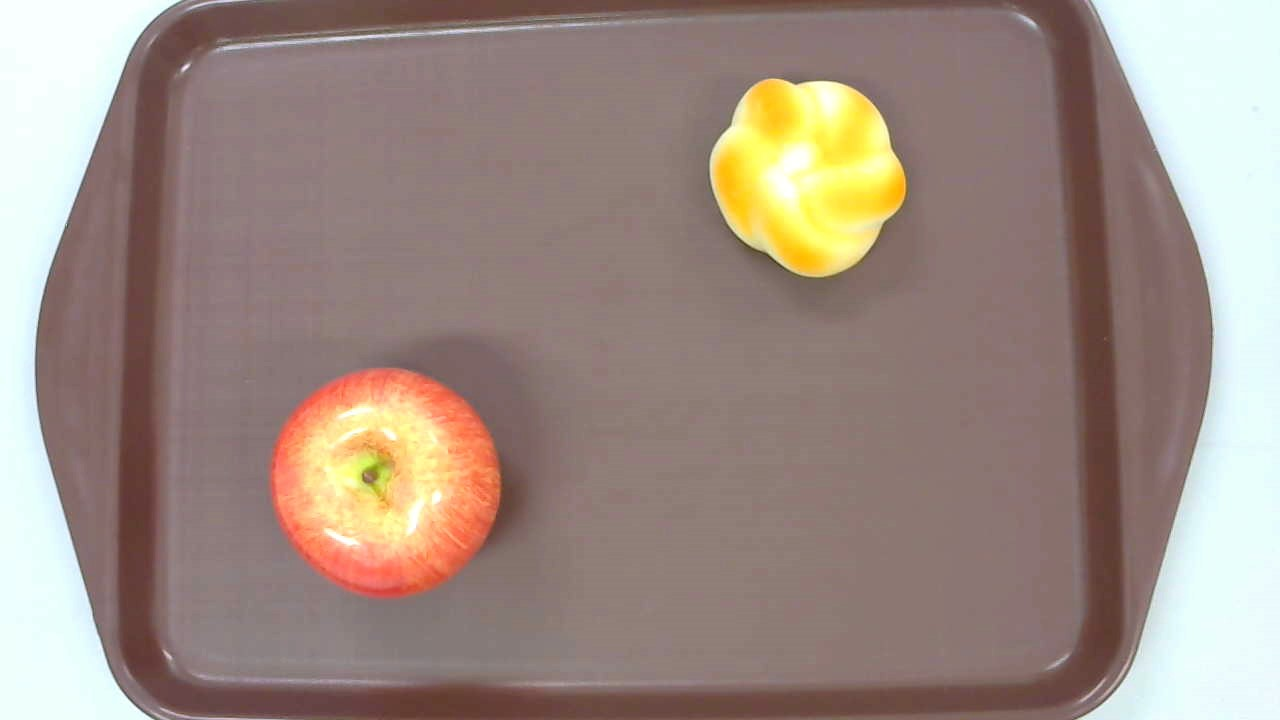red apple: (268, 366, 501, 599)
twist bread: (709, 77, 906, 279)
